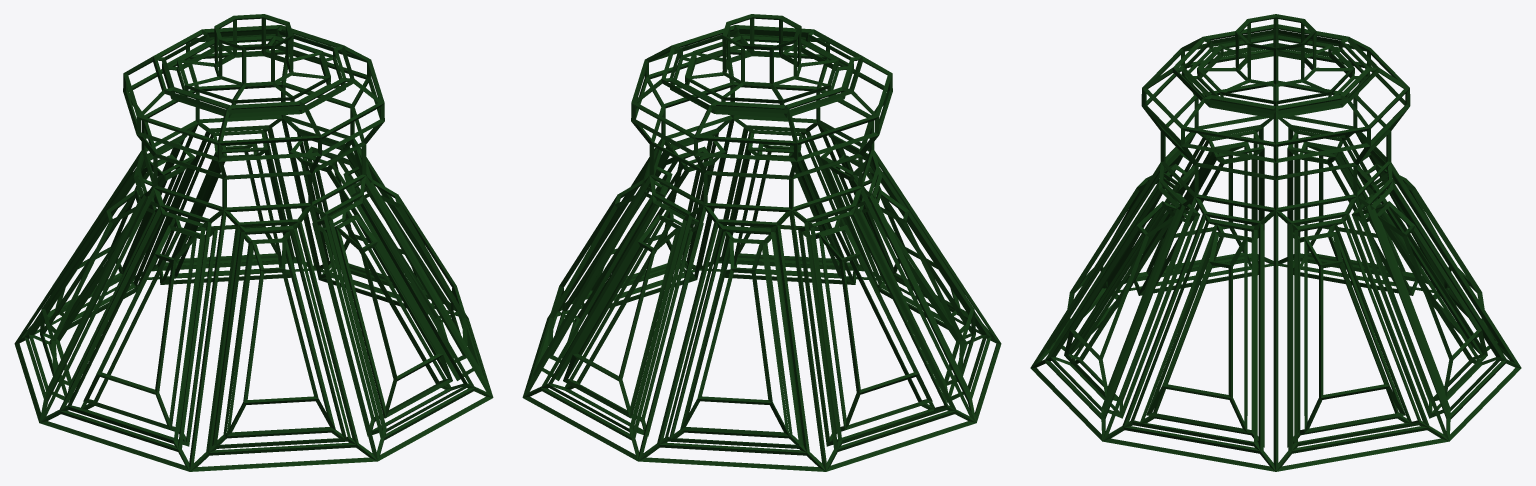
File: Big Cannon const1.fbx
3 views of the same model, side by side, from view 1: azimuth 30°, elevation 25°; view 2: azimuth 150°, elevation 25°; view 3: azimuth 270°, elevation 25° (orthographic).
Parts seen in each view (by area): view 1: gran canyon construct 1; view 2: gran canyon construct 1; view 3: gran canyon construct 1.
Part boxes in pixels (x1=…): gran canyon construct 1: x1=14, y1=14, x2=493, y2=471; gran canyon construct 1: x1=522, y1=14, x2=1001, y2=471; gran canyon construct 1: x1=1030, y1=14, x2=1521, y2=471.
Size of the model in its own units: 1107 by 837 by 1107.
